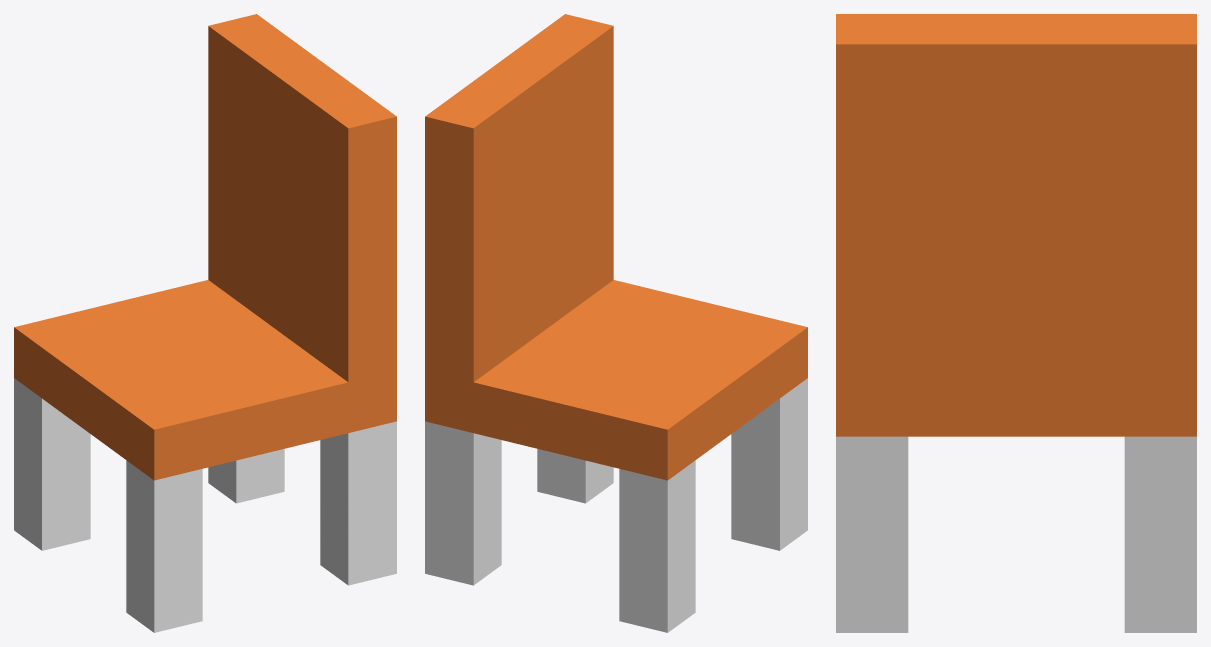
The model's file is Chair.fbx.
3 views of the same model, side by side, from view 1: azimuth 30°, elevation 25°; view 2: azimuth 150°, elevation 25°; view 3: azimuth 270°, elevation 25° (orthographic). The views are drawn at different scales.
Parts seen in each view (by area): view 1: default; view 2: default; view 3: default.
Boxes of the visible parts, x1,y1,x2,y2 form: default: (14,14,396,632); default: (425,14,807,632); default: (836,14,1196,632).
Bounding box in the file's own units: 20 × 36 × 20.
